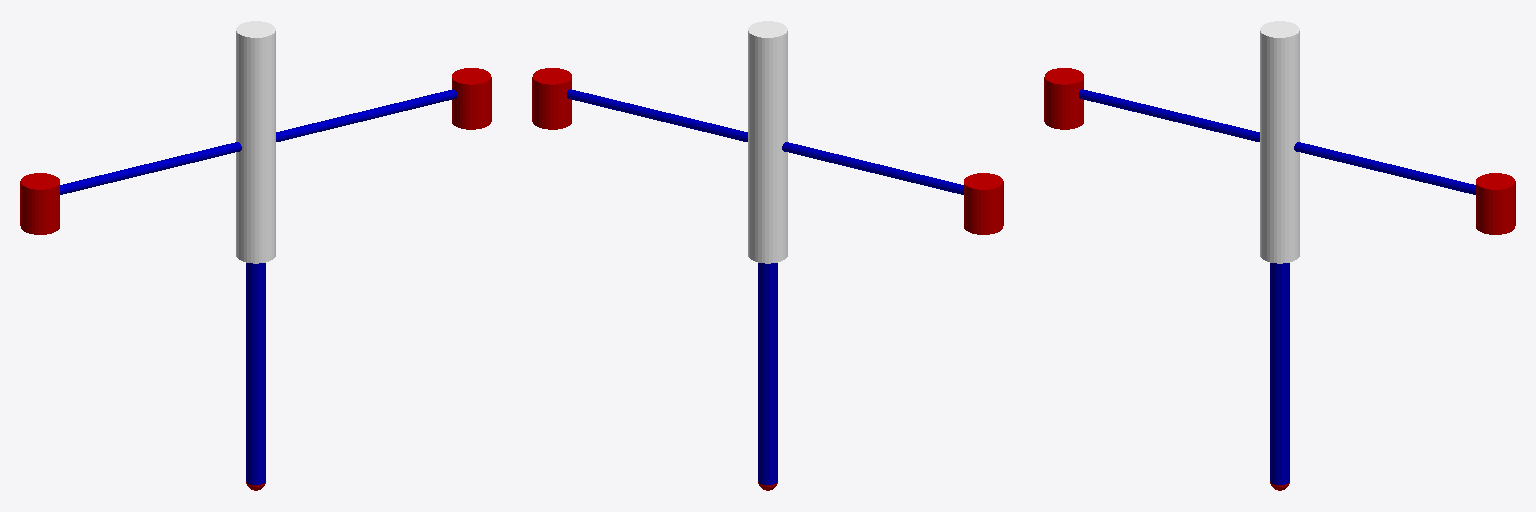
robot.urdf — 1dhopper:
<?xml version="1.0"?>
<robot name="1dhopper">
   <material name="blue">
    <color rgba="0 0 0.8 1"/>
  </material>

  <material name="red">
   <color rgba="0.8 0 0 1"/>
 </material>

  <material name="white">
    <color rgba="1 1 1 0.5"/>
  </material>

 <link name="balance_beam">
    <visual>
     <material name="blue"/>
      <geometry>
        <cylinder length="1" radius="0.01"/>
      </geometry>
      <origin rpy="0 1.57075 0" xyz="0 0 0"/>
    </visual>
    <collision>
       <geometry>
         <cylinder length="1" radius="0.01"/>
       </geometry>
       <origin rpy="0 1.57075 0" xyz="0 0 0"/>
     </collision>
     <inertial>
     <mass value="6"/>
     <inertia ixx="0.4" ixy="0.0" ixz="0.0" iyy="0.4" iyz="0.0" izz="0.2"/>
     <origin rpy="0 1.57075 0" xyz="0 0 0"/>
   </inertial>
  </link>

  <link name="base_link">
    <visual>
      <geometry>
        <cylinder length="0.5" radius="0.04"/>
      </geometry>
      <material name="white"/>
    </visual>
    <collision>
       <geometry>
         <cylinder length="0.5" radius="0.04"/>
       </geometry>
     </collision>
     <inertial>
     <mass value="0.15"/>
     <inertia ixx="0.4" ixy="0.0" ixz="0.0" iyy="0.4" iyz="0.0" izz="0.2"/>
   </inertial>

  </link>

  <joint name="base_to_beam" type="revolute">
      <axis xyz="0 1 0"/>
      <!--<limit effort="1000.0" lower="-1.57079632679" upper="1.57079632679" velocity="100"/>-->
      <limit effort="1000.0" lower="-0.471" upper="0.471" velocity="100"/>
      <dynamics damping="0.0" friction="0.3"/>
      <!-- <limit effort="1000.0" lower="-1.2" upper="1.2" velocity="10"/> -->
      <parent link="balance_beam"/>
      <child link="base_link"/>
      <origin xyz="0 0 0"/>

    </joint>

    <link name="leg">
        <visual>
          <geometry>
            <cylinder length="0.5" radius="0.02"/>
          </geometry>
          <material name="blue"/>
          <origin rpy="0 0 0" xyz="0 0 0"/>
        </visual>
        <collision>
           <geometry>
             <cylinder length="0.5" radius="0.02"/>
           </geometry>
           <origin rpy="0 0 0" xyz="0 0 0"/>
         </collision>
         <inertial>
         <mass value="0.15"/>
         <inertia ixx="0.4" ixy="0.0" ixz="0.0" iyy="0.4" iyz="0.0" izz="0.2"/>
         <origin rpy="0 0 0" xyz="0 0 -0.4"/>
       </inertial>
      </link>

    <joint name="foot_joint" type="prismatic">
        <axis xyz="0 0 1"/>
        <limit effort="1000.0" lower="0" upper="0.5" velocity="1000"/>
	 <dynamics damping="50" friction="0.0"/>
        <parent link="base_link"/>
        <child link="leg"/>
        <origin xyz="0 0 -0.5"/>

      </joint>

      <link name="toe">
        <visual>
          <geometry>
            <sphere radius="0.02"/>
          </geometry>
          <material name="red"/>
        </visual>
        <collision>
          <geometry>
            <sphere radius="0.02"/>
          </geometry>
         </collision>
         <inertial>
         <mass value="0.01"/>
         <inertia ixx="1.0" ixy="0.0" ixz="0.0" iyy="1.0" iyz="0.0" izz="1.0"/>
       </inertial>

      </link>

      <joint name="leg_toe" type="fixed">
          <parent link="leg"/>
          <child link="toe"/>
          <origin xyz="0 0 -0.25"/>
          <!-- <dynamics damping="0.5" friction="1.0"/> -->
        </joint>

<link name="left_weight">
    <visual>
      <geometry>
        <cylinder length="0.1" radius="0.04"/>
      </geometry>
      <material name="red"/>
      <origin rpy="0 0 1.57075" xyz="0 0 0"/>
    </visual>
    <collision>
       <geometry>
         <cylinder length="0.1" radius="0.04"/>
       </geometry>
       <origin rpy="0 0 1.57075" xyz="0 0 0"/>
     </collision>
     <inertial>
     <mass value="1.5"/>
     <origin rpy="0 0 1.57075" xyz="0 0 0"/>
     <inertia ixx="0.4" ixy="0.0" ixz="0.0" iyy="0.4" iyz="0.0" izz="0.2"/>
   </inertial>
  </link>

<link name="right_weight">
    <visual>
      <geometry>
        <cylinder length="0.1" radius="0.04"/>
      </geometry>
      <material name="red"/>
      <origin rpy="0 0 1.57075" xyz="0 0 0"/>
    </visual>
    <collision>
       <geometry>
         <cylinder length="0.1" radius="0.04"/>
       </geometry>
       <origin rpy="0 0 1.57075" xyz="0 0 0"/>
     </collision>
     <inertial>
     <mass value="1.5"/>
     <origin rpy="0 0 1.57075" xyz="0 0 0"/>
     <inertia ixx="0.4" ixy="0.0" ixz="0.0" iyy="0.4" iyz="0.0" izz="0.2"/>
   </inertial>
  </link>

<joint name="leftWeight_beam" type="fixed">
          <parent link="balance_beam"/>
          <child link="left_weight"/>
          <origin xyz="0.5 0 -0.02"/>
        </joint>

<joint name="rightWeight_beam" type="fixed">
          <parent link="balance_beam"/>
          <child link="right_weight"/>
          <origin xyz="-0.5 0 -0.02"/>
        </joint>

</robot>

--- Render facts (derived) ---
Views: 3 orthographic renders of the robot side by side, from view 1: azimuth 30°, elevation 25°; view 2: azimuth 150°, elevation 25°; view 3: azimuth 330°, elevation 25°.
Model 1dhopper with 6 links and 5 joints (1 revolute, 1 prismatic, 3 fixed), rooted at balance_beam, posed all joints at 0.
Visible links, largest first — view 1: base_link, leg, balance_beam, right_weight, left_weight; view 2: base_link, leg, balance_beam, right_weight, left_weight; view 3: base_link, leg, balance_beam, left_weight, right_weight.
Boxes of the visible links, x1,y1,x2,y2 form: base_link: (236, 21, 275, 263); leg: (246, 263, 265, 484); balance_beam: (60, 89, 456, 194); right_weight: (20, 173, 59, 234); left_weight: (452, 68, 491, 129); base_link: (748, 21, 787, 263); leg: (758, 263, 777, 484); balance_beam: (567, 89, 963, 194); right_weight: (964, 173, 1003, 234); left_weight: (532, 68, 571, 129); base_link: (1260, 21, 1299, 263); leg: (1270, 263, 1289, 484); balance_beam: (1079, 89, 1475, 194); left_weight: (1476, 173, 1515, 234); right_weight: (1044, 68, 1083, 129).
Size in the robot's own frame: 1.08 by 0.08 by 1.02 metres.
Geometry: primitives only (box / cylinder / sphere), no mesh files.